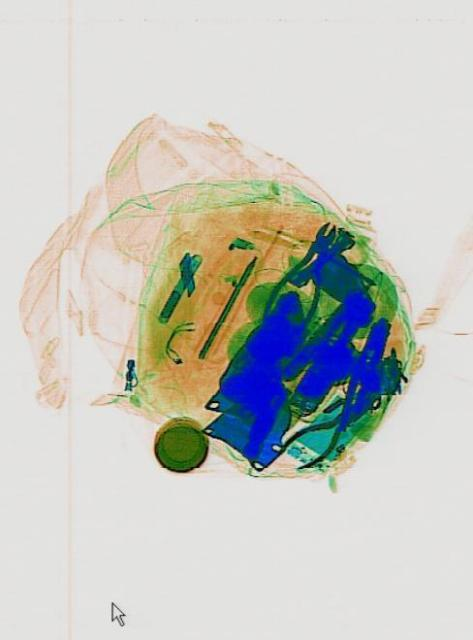Pliers: (256, 207, 351, 346), (278, 376, 383, 478)
